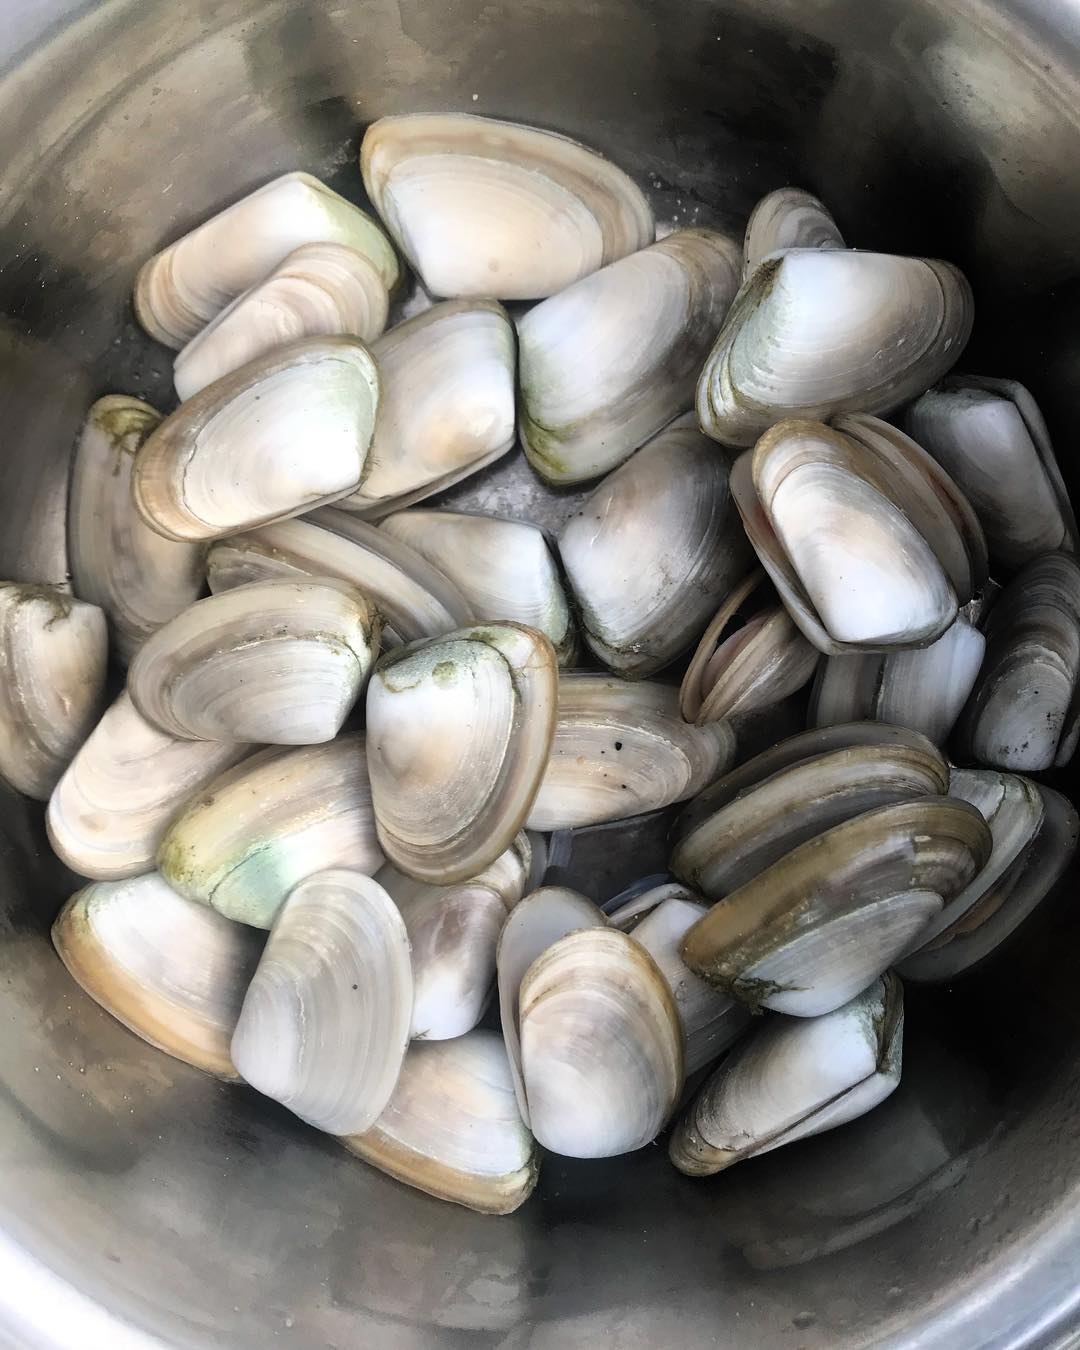tuatua: (671, 793, 998, 1019), (694, 238, 978, 458), (357, 105, 662, 305), (516, 222, 748, 478), (127, 328, 384, 546), (743, 408, 965, 656), (492, 889, 685, 1168), (665, 978, 927, 1182), (361, 615, 564, 878), (222, 868, 408, 1136), (44, 864, 262, 1087), (155, 730, 395, 929), (564, 407, 739, 678), (120, 570, 378, 749), (127, 163, 413, 312), (67, 389, 206, 663), (357, 289, 522, 517), (669, 714, 951, 845), (341, 1035, 536, 1221), (379, 494, 577, 665), (916, 368, 1078, 573), (541, 663, 736, 827), (160, 240, 397, 364), (4, 575, 116, 803), (969, 554, 1080, 773)
